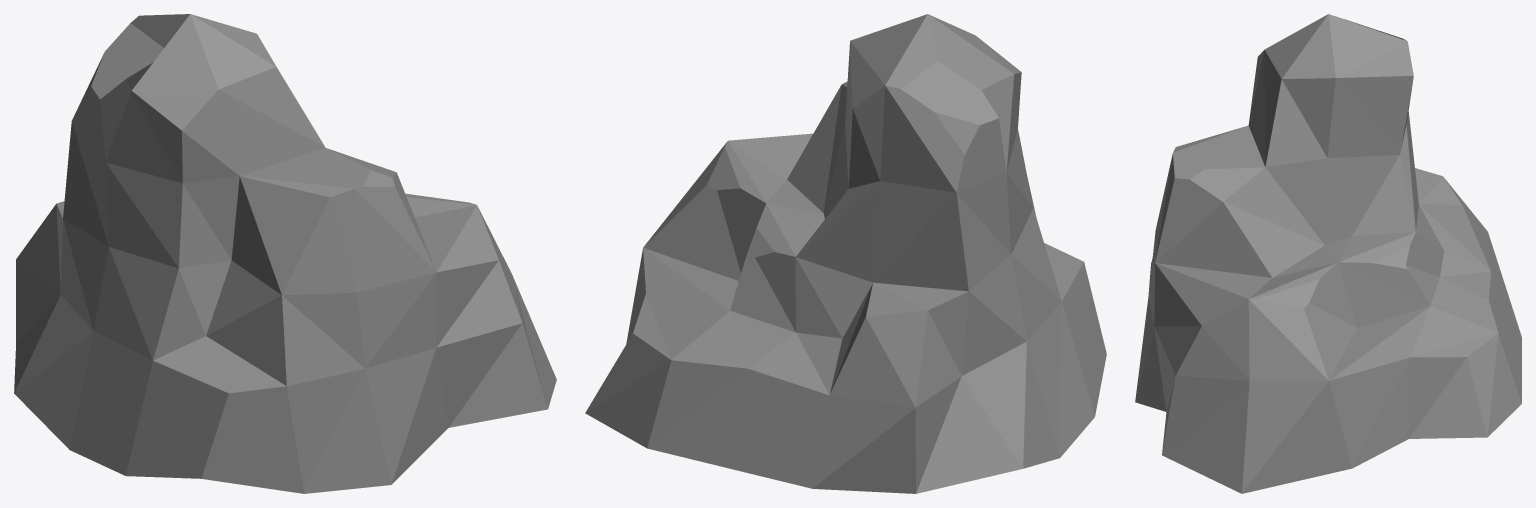
Rendered from Rock_3.fbx.
The picture shows the model from 3 angles, left to right: view 1: azimuth 30°, elevation 25°; view 2: azimuth 150°, elevation 25°; view 3: azimuth 270°, elevation 25°; orthographic projection. The views are drawn at different scales.
Visible parts, largest first — view 1: Rock_3; view 2: Rock_3; view 3: Rock_3.
Part boxes in pixels (x1=…): Rock_3: x1=14, y1=14, x2=556, y2=493; Rock_3: x1=585, y1=14, x2=1106, y2=493; Rock_3: x1=1135, y1=14, x2=1521, y2=493.
Bounding box in the file's own units: 344 × 299 × 298.
